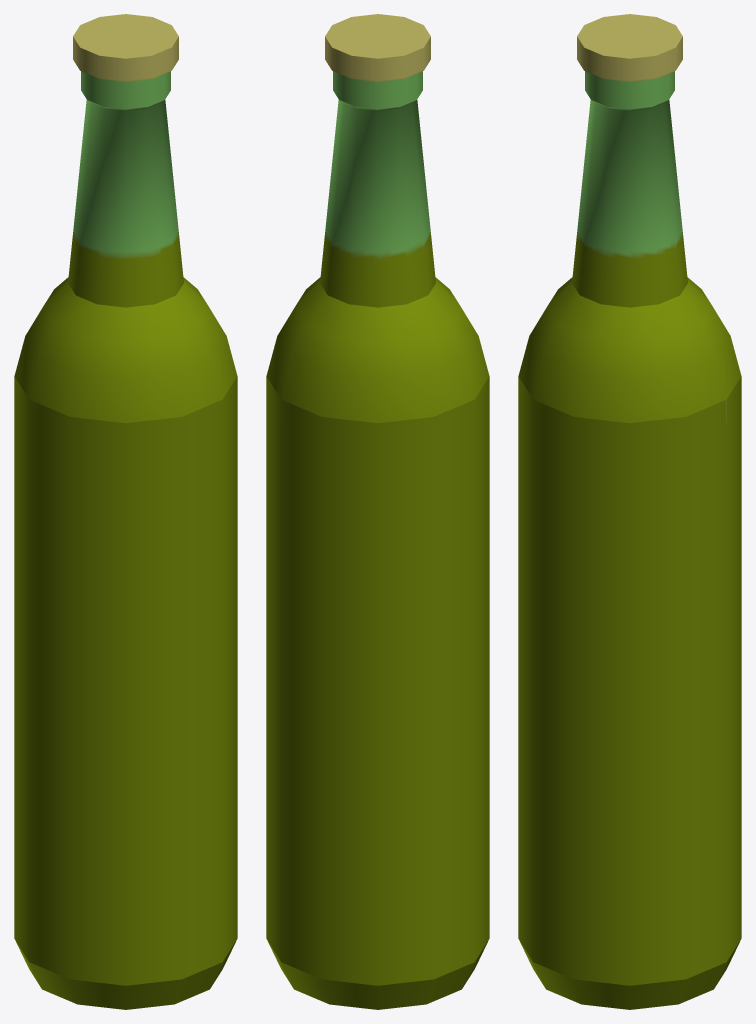
Rendered from Wine bottle.fbx.
3 views of the same model, side by side, from view 1: azimuth 30°, elevation 25°; view 2: azimuth 150°, elevation 25°; view 3: azimuth 270°, elevation 25° (orthographic).
Visible parts, largest first — view 1: Cylinder005; view 2: Cylinder005; view 3: Cylinder005.
Boxes of the visible parts, box(x1,y1,x2,y2) form: Cylinder005: box(14, 14, 237, 1009); Cylinder005: box(266, 14, 489, 1009); Cylinder005: box(518, 14, 741, 1009).
Size of the model in its own units: 10 by 46.14 by 10.
